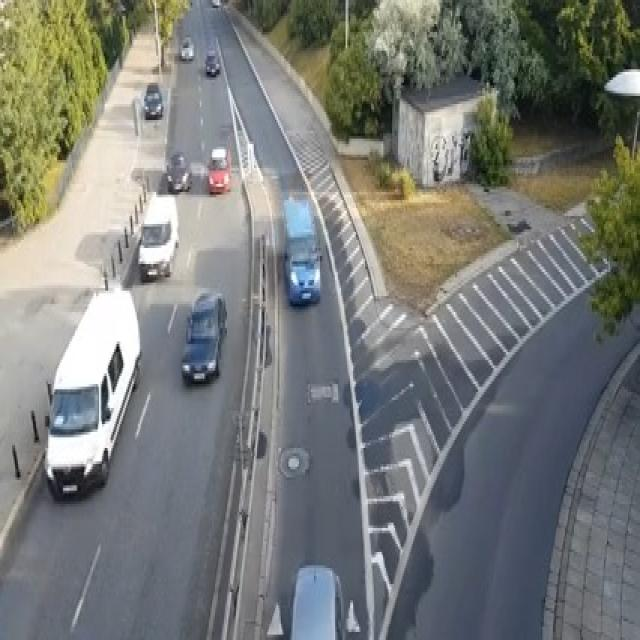bus: (44, 285, 141, 499)
car: (180, 288, 227, 384), (282, 195, 322, 304), (288, 563, 346, 637), (136, 192, 178, 280), (206, 147, 231, 192), (165, 149, 191, 192), (142, 83, 164, 117), (204, 48, 220, 75), (179, 35, 194, 61), (210, 0, 219, 5)
